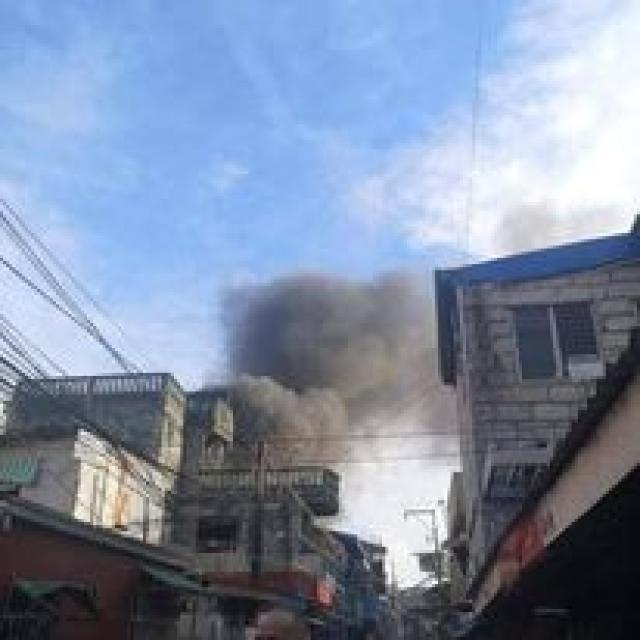Smoke: (207, 262, 456, 466)
